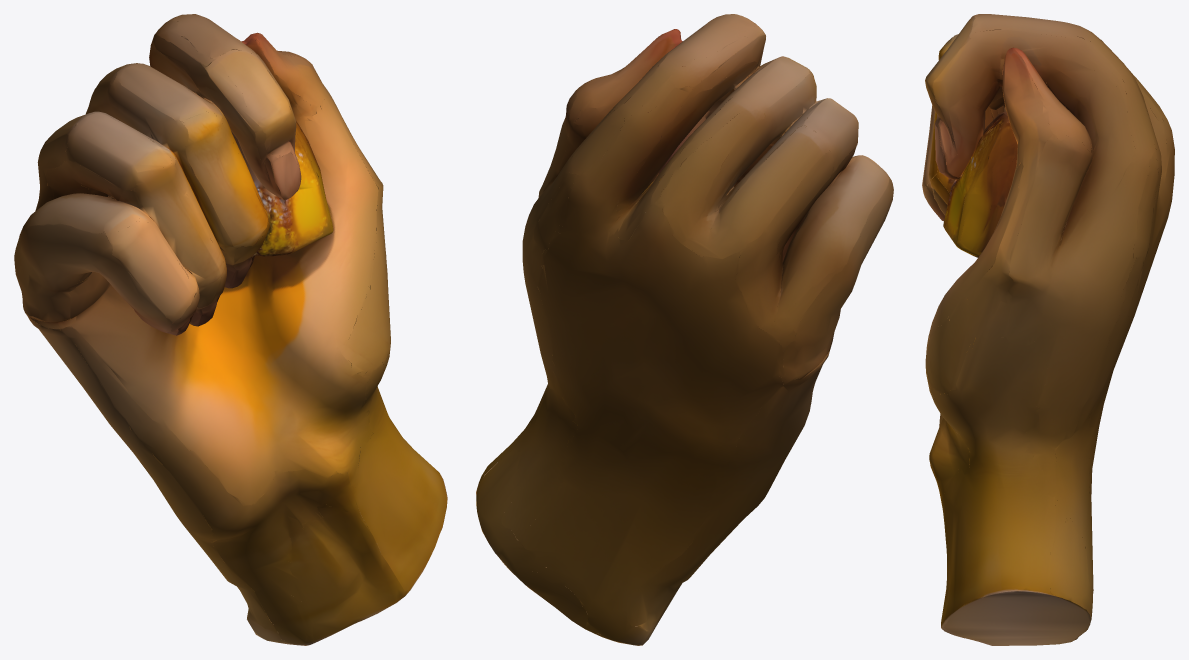
The picture shows the model from 3 angles, left to right: view 1: azimuth 30°, elevation 25°; view 2: azimuth 150°, elevation 25°; view 3: azimuth 270°, elevation 25°; orthographic projection. The views are drawn at different scales.
Visible parts, largest first — view 1: material; view 2: material; view 3: material.
Boxes of the visible parts, bbox=[...] form: material: bbox=[14, 14, 447, 645]; material: bbox=[476, 14, 893, 645]; material: bbox=[922, 14, 1174, 645].
Bounding box in the file's own units: 75.97 × 117 × 45.2.
Materials: 1 (1 with a texture image).
